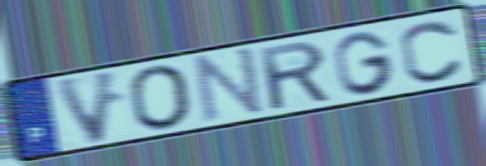C: (398, 17, 467, 85)
G: (331, 29, 398, 97)
N: (193, 44, 267, 126)
O: (125, 62, 196, 132)
R: (255, 38, 335, 113)
V: (50, 67, 123, 148)
